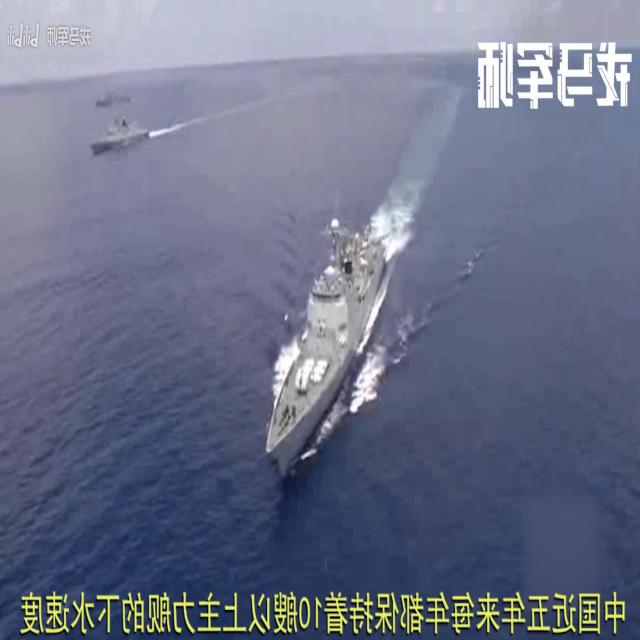navalvessels: (266, 216, 387, 478), (92, 108, 154, 153), (95, 84, 133, 108)
